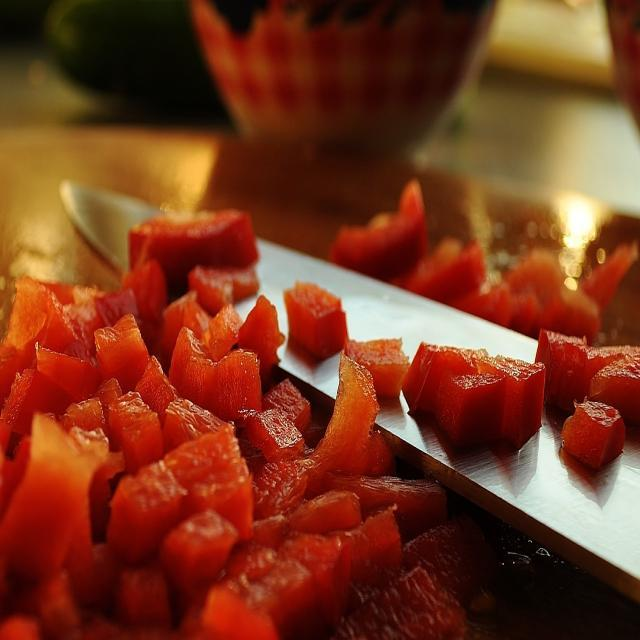Knife: (378, 399, 640, 603), (258, 242, 536, 359), (60, 181, 155, 269), (279, 345, 338, 407)
